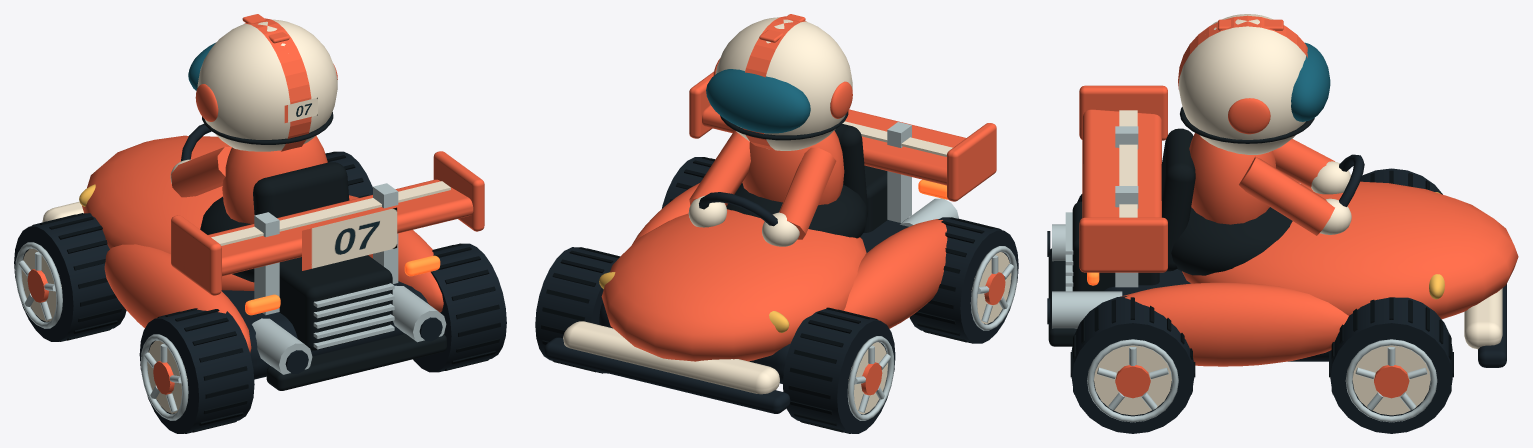
3 views of the same model, side by side, from view 1: azimuth 30°, elevation 25°; view 2: azimuth 150°, elevation 25°; view 3: azimuth 270°, elevation 25° (orthographic). The views are drawn at different scales.
Visible parts, largest first — view 1: Painted racing shell, rubber, Carbon seats and engine recesses, ivory, metal, Tire grooves, Driver racing number, Rear amber lenses; view 2: Painted racing shell, rubber, ivory, Carbon seats and engine recesses, metal, glass, Tire grooves, gold; view 3: Painted racing shell, ivory, rubber, Carbon seats and engine recesses, metal, Tire grooves, glass.
Boxes of the visible parts, x1=… form: Painted racing shell: x1=27, y1=14, x2=484, y2=394; rubber: x1=14, y1=124, x2=506, y2=433; Carbon seats and engine recesses: x1=200, y1=112, x2=446, y2=390; ivory: x1=21, y1=19, x2=450, y2=413; metal: x1=15, y1=183, x2=446, y2=420; Tire grooves: x1=32, y1=151, x2=500, y2=433; Driver racing number: x1=284, y1=97, x2=397, y2=270; Rear amber lenses: x1=245, y1=255, x2=440, y2=315; Painted racing shell: x1=601, y1=14, x2=1005, y2=395; rubber: x1=535, y1=157, x2=1018, y2=433; ivory: x1=563, y1=17, x2=1011, y2=414; Carbon seats and engine recesses: x1=720, y1=111, x2=907, y2=238; metal: x1=847, y1=122, x2=1017, y2=420; glass: x1=706, y1=69, x2=810, y2=133; Tire grooves: x1=541, y1=157, x2=1001, y2=433; gold: x1=599, y1=272, x2=789, y2=332; Painted racing shell: x1=1079, y1=15, x2=1518, y2=398; ivory: x1=1094, y1=14, x2=1502, y2=415; rubber: x1=1047, y1=154, x2=1506, y2=433; Carbon seats and engine recesses: x1=1048, y1=107, x2=1314, y2=346; metal: x1=1052, y1=126, x2=1437, y2=422; Tire grooves: x1=1070, y1=170, x2=1453, y2=394; glass: x1=1291, y1=42, x2=1330, y2=121.
Size of the model in its own units: 2.51 by 2.43 by 3.08.
Materials: 10 (1 with a texture image).
